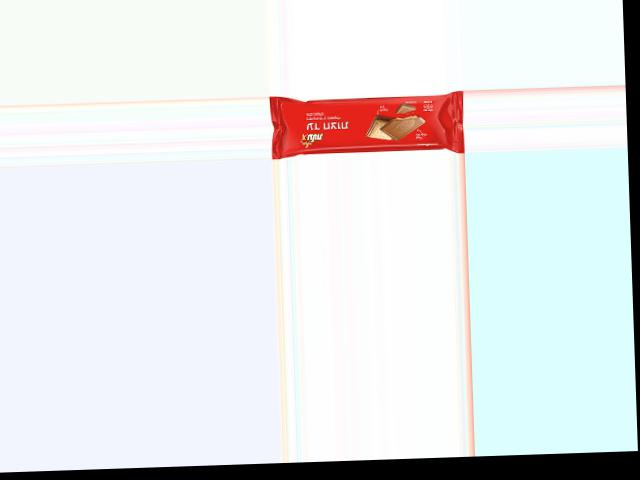chocolate: (274, 88, 462, 159)
